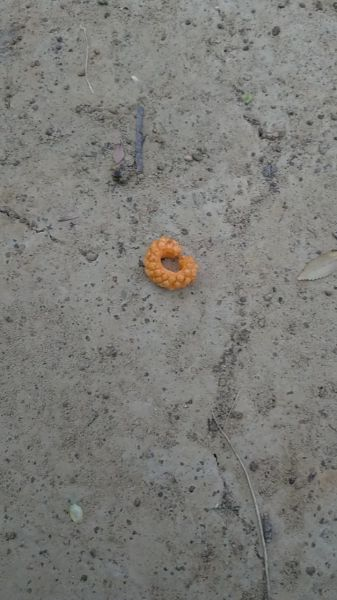eggs: (142, 231, 201, 294)
